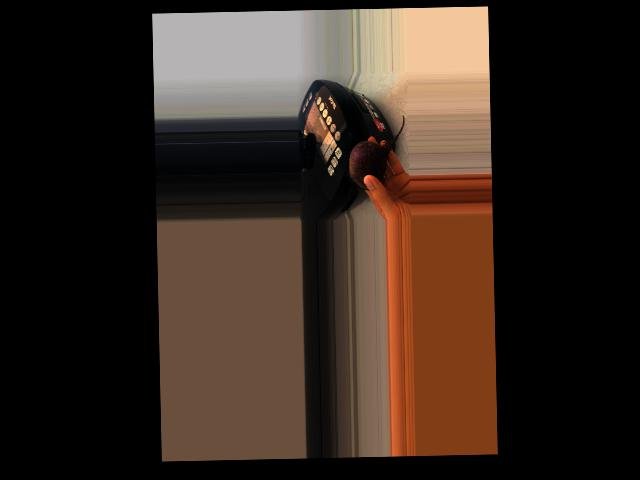beet: (345, 115, 406, 190)
